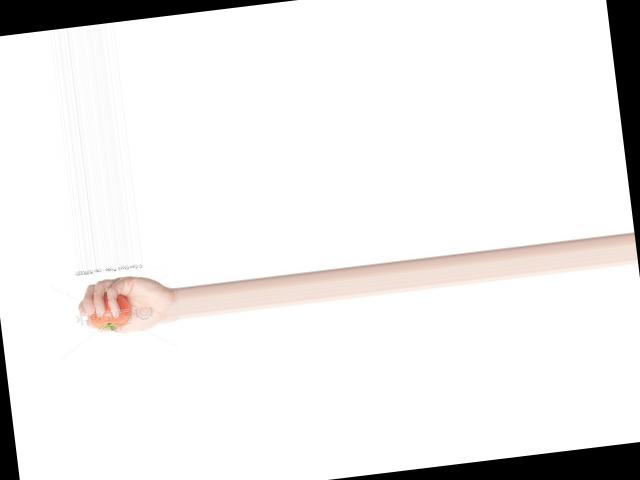tomato: (85, 291, 131, 332)
